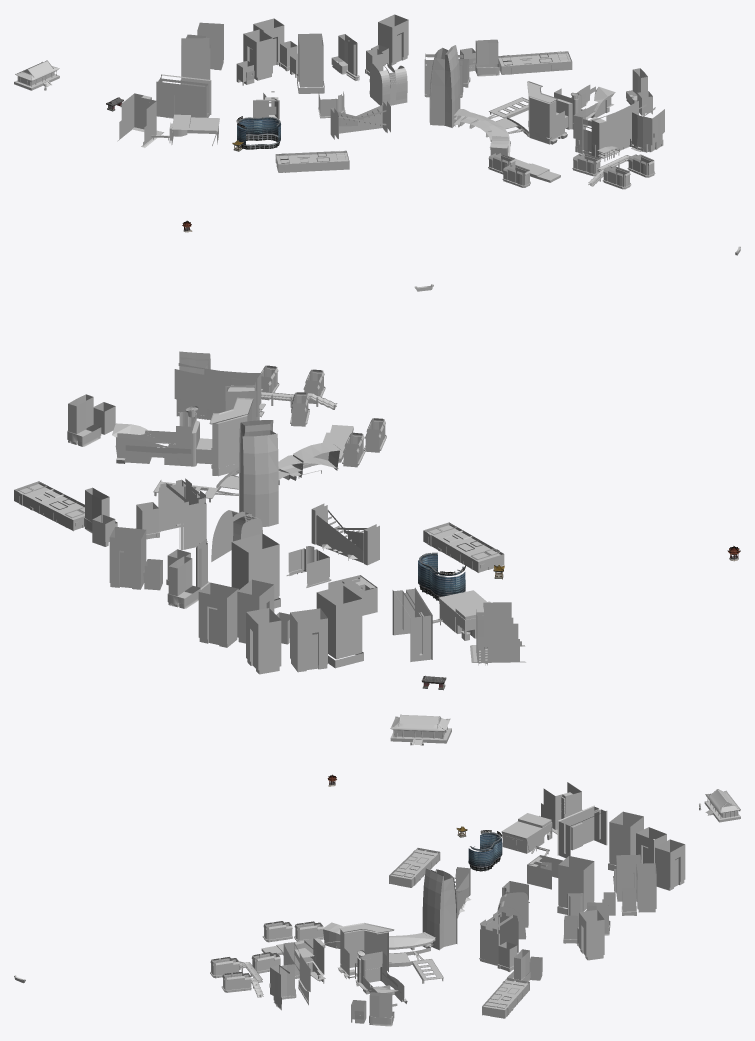
File: chu_bd.FBX
The picture shows the model from 3 angles, top to bottom: view 1: azimuth 30°, elevation 25°; view 2: azimuth 150°, elevation 25°; view 3: azimuth 270°, elevation 25°; orthographic projection. The views are drawn at different scales.
Parts seen in each view (by area): view 1: bd00619_2_02, ag01659, bd00653_low, bd00646_low, bd1586_low; view 2: bd00619_2_02, ag01659, bd00653_low, bd1586_low, bd00646_low; view 3: bd00619_2_02, ag01659, bd00653_low, bd00646_low, bd1586_low.
Boxes of the visible parts, x1,y1,x2,y2 form: bd00619_2_02: (117,14,664,189); ag01659: (180,33,740,255); bd00653_low: (151,53,637,182); bd00646_low: (236,116,280,149); bd1586_low: (14,60,59,90); bd00619_2_02: (109,351,525,674); ag01659: (14,284,504,668); bd00653_low: (158,409,490,640); bd1586_low: (390,714,451,745); bd00646_low: (418,552,465,600); bd00619_2_02: (210,782,685,1010); ag01659: (14,811,643,1026); bd00653_low: (261,813,552,991); bd00646_low: (468,830,502,871); bd1586_low: (699,789,740,822).
Size of the model in its own units: 1057 by 153 by 1365.
